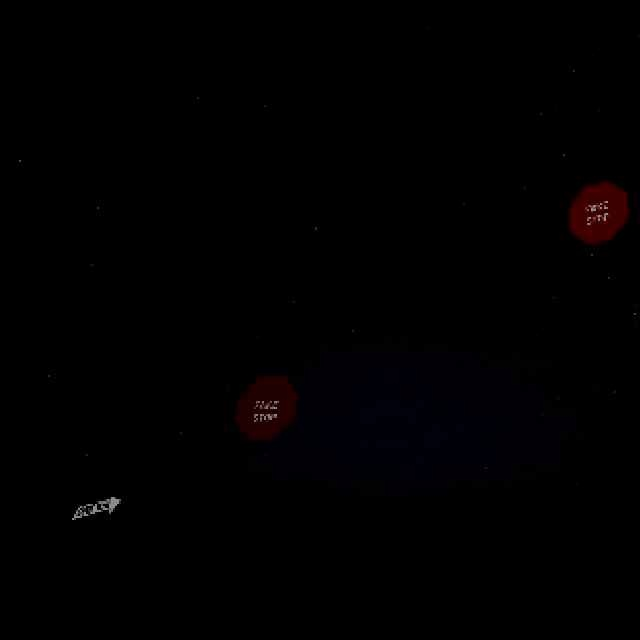FAKE_STOP: (233, 373, 299, 439), (566, 178, 628, 244)
ONE_WAY_ right: (59, 491, 125, 530)
